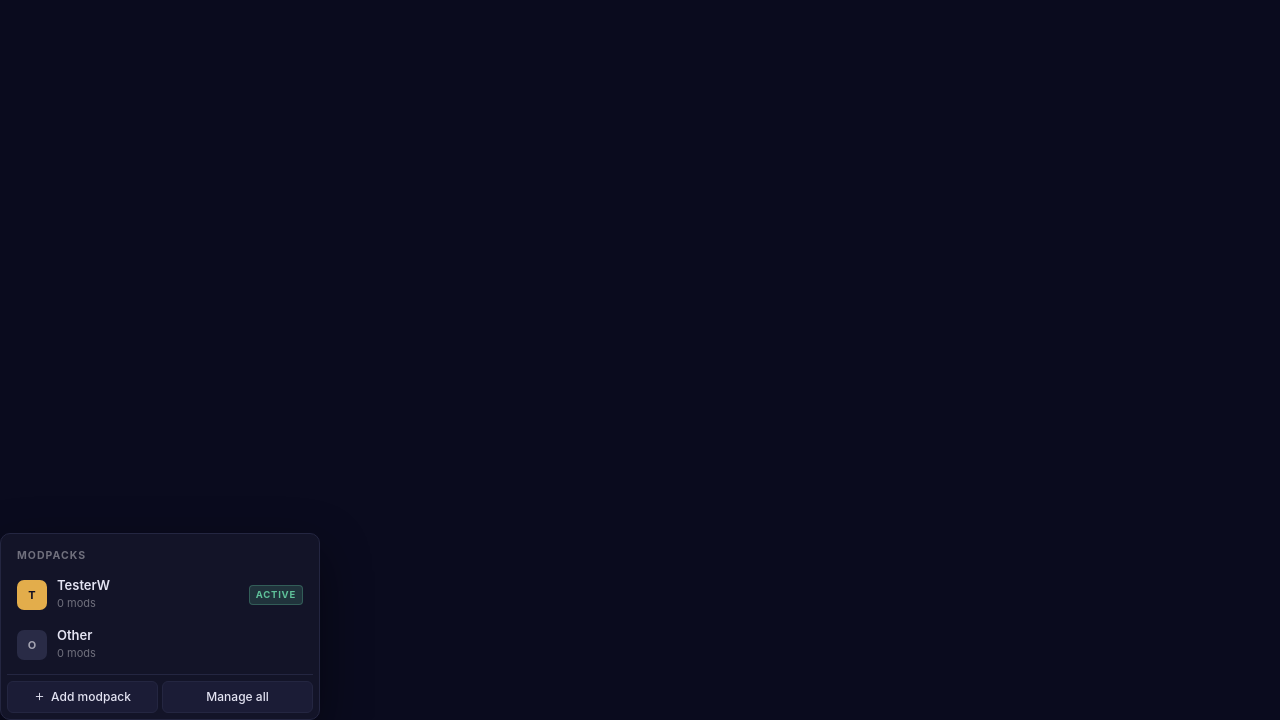
Test case: <ProfileSwitcher> › uses the active profile display name in drift confirmation when the active profile is stored by UUID
(page scrolled)
What coordinates should you click on to do the following:
click the text "Other"
I would click on:
 (75, 635)
Its box is [57,627,92,643].
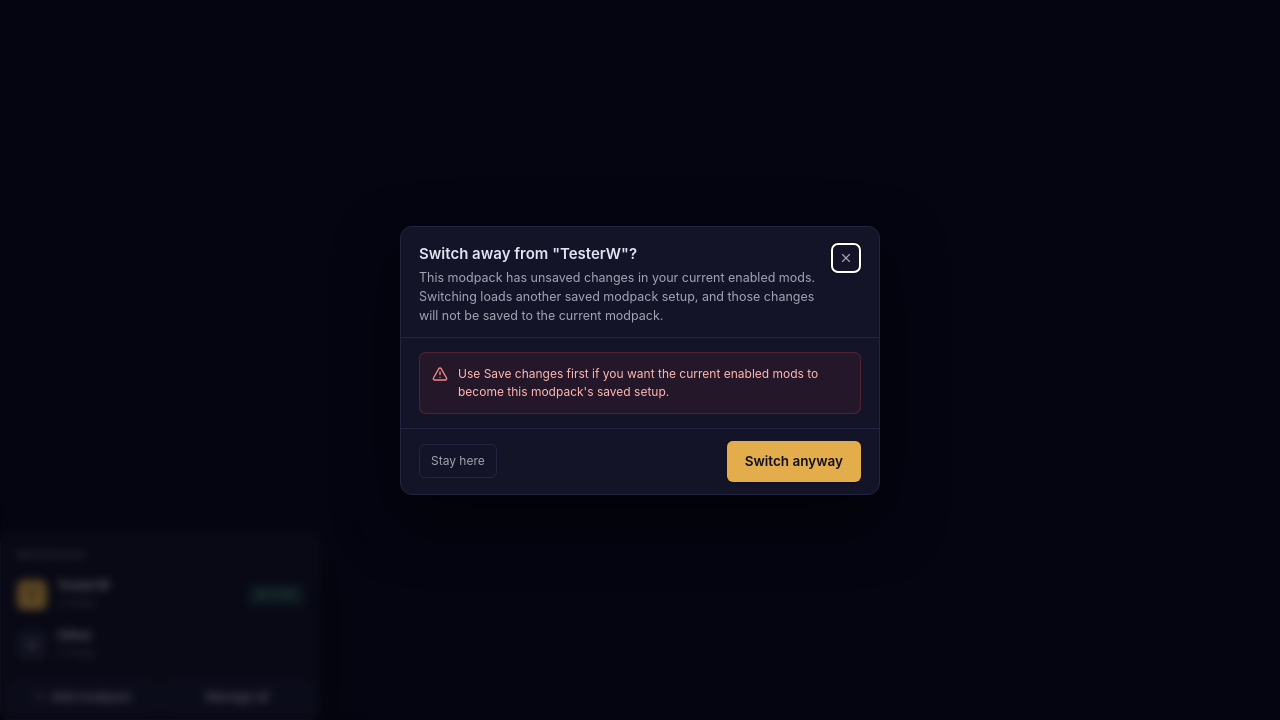
Check: the text "Switch away from \"TesterW\"?" is shown, box [419,244,637,262]
